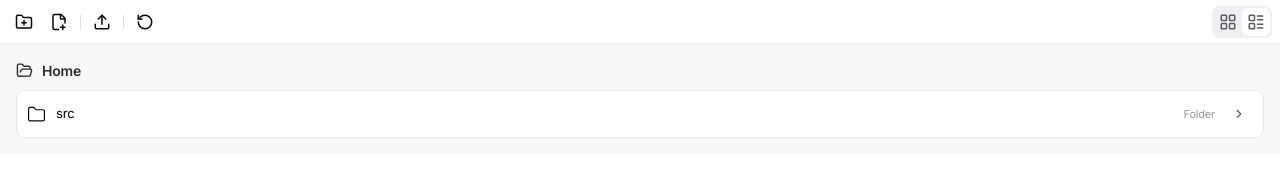
it: WorkspacePanel › reuses a loaded branch after collapsing and reopening it
Click the button with class "tree-toggle": point(1239, 114) top-left (1225, 100), bottom-right (1253, 128)
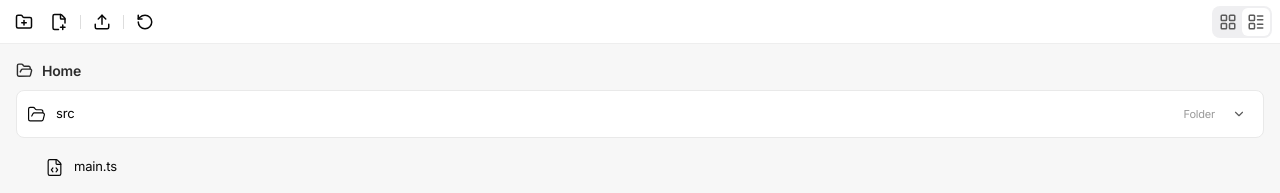
Click the button with class "tree-toggle": point(1239, 114) top-left (1225, 100), bottom-right (1253, 128)
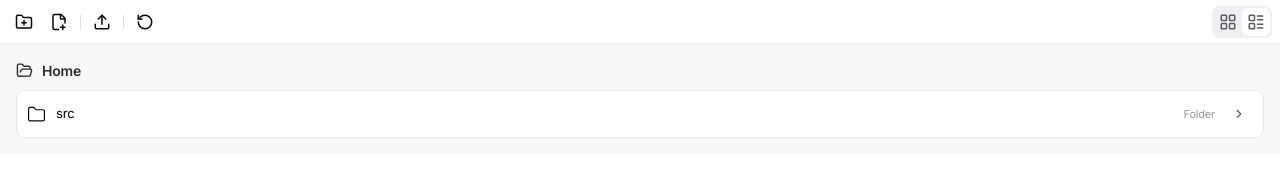
Click the button with class "tree-toggle": point(1239, 114) top-left (1225, 100), bottom-right (1253, 128)
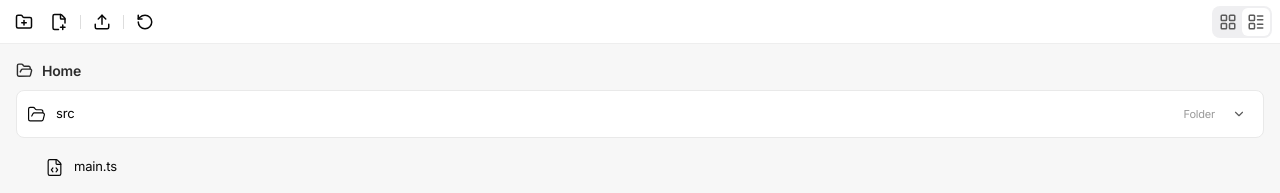
Expected: the list item "main .ts" is shown, top-left (45, 158), bottom-right (117, 176)
